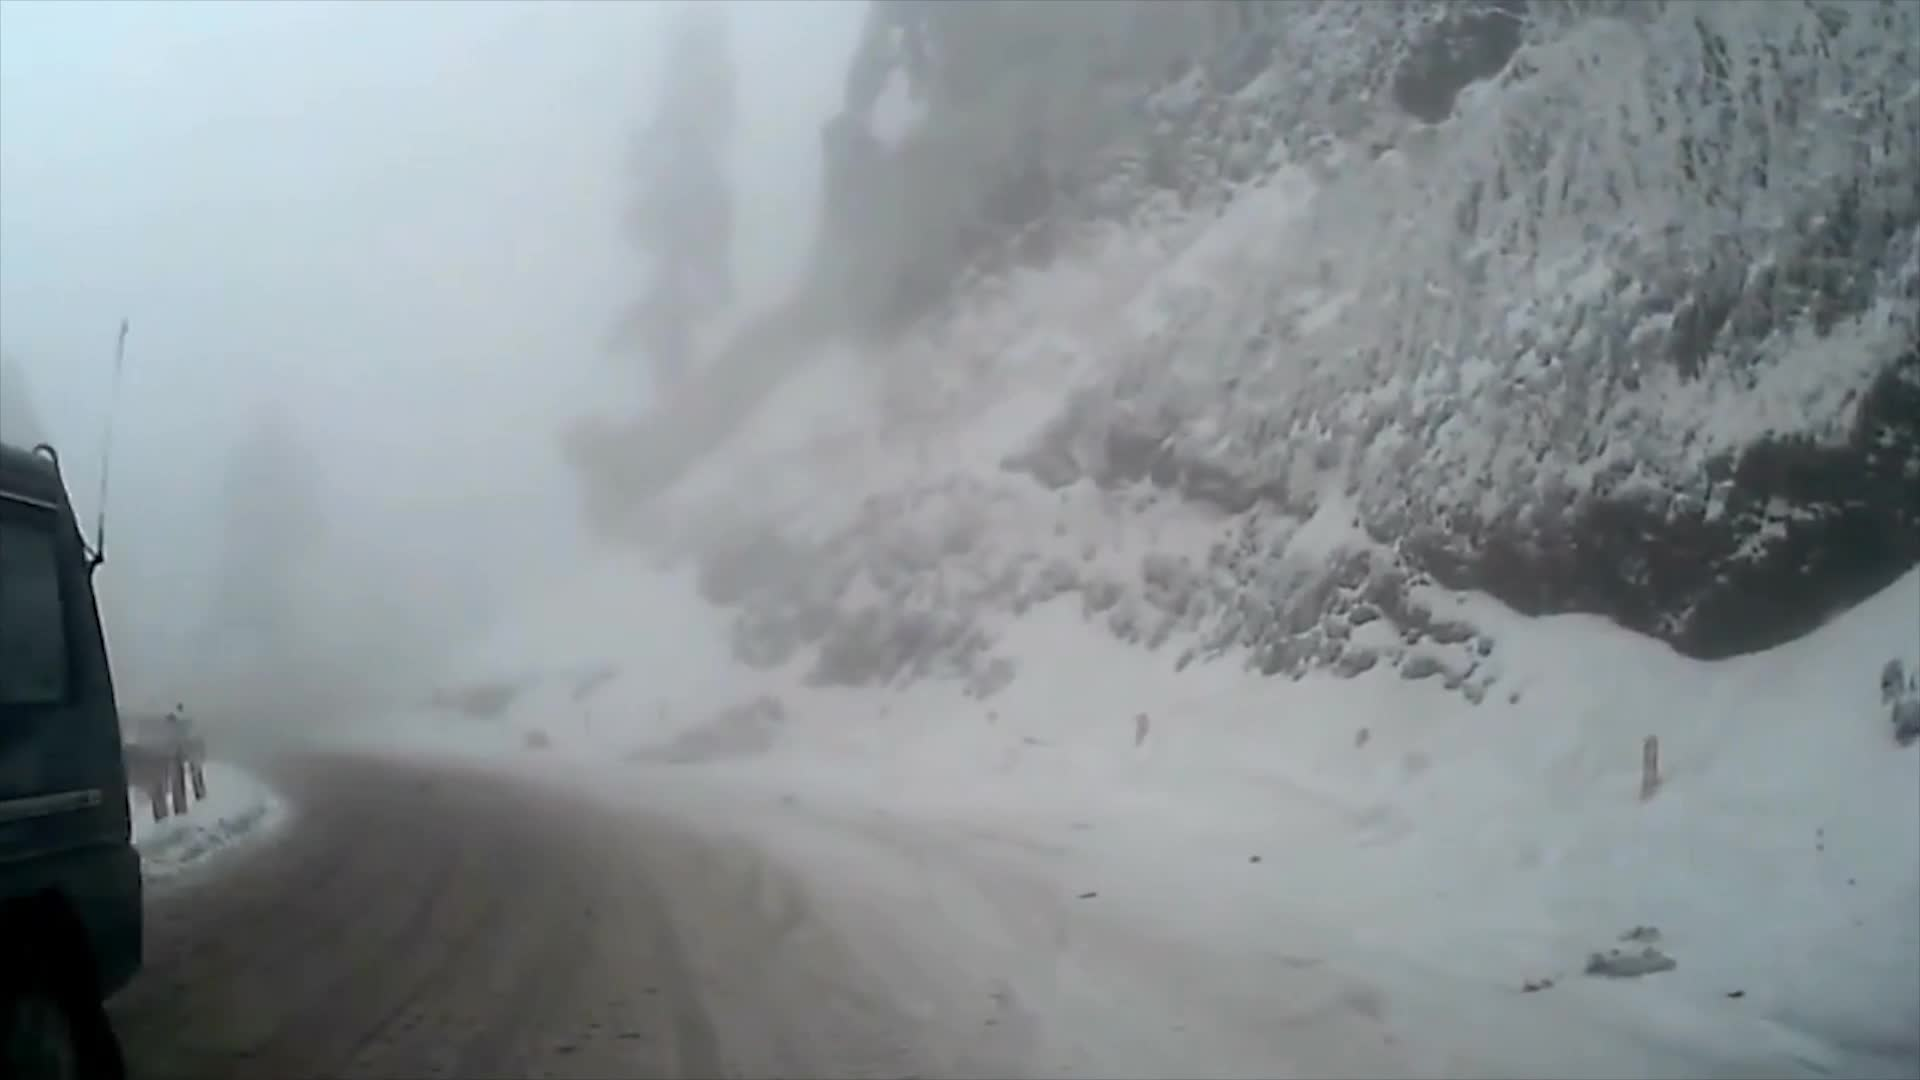vehicle: (0, 440, 145, 1080)
